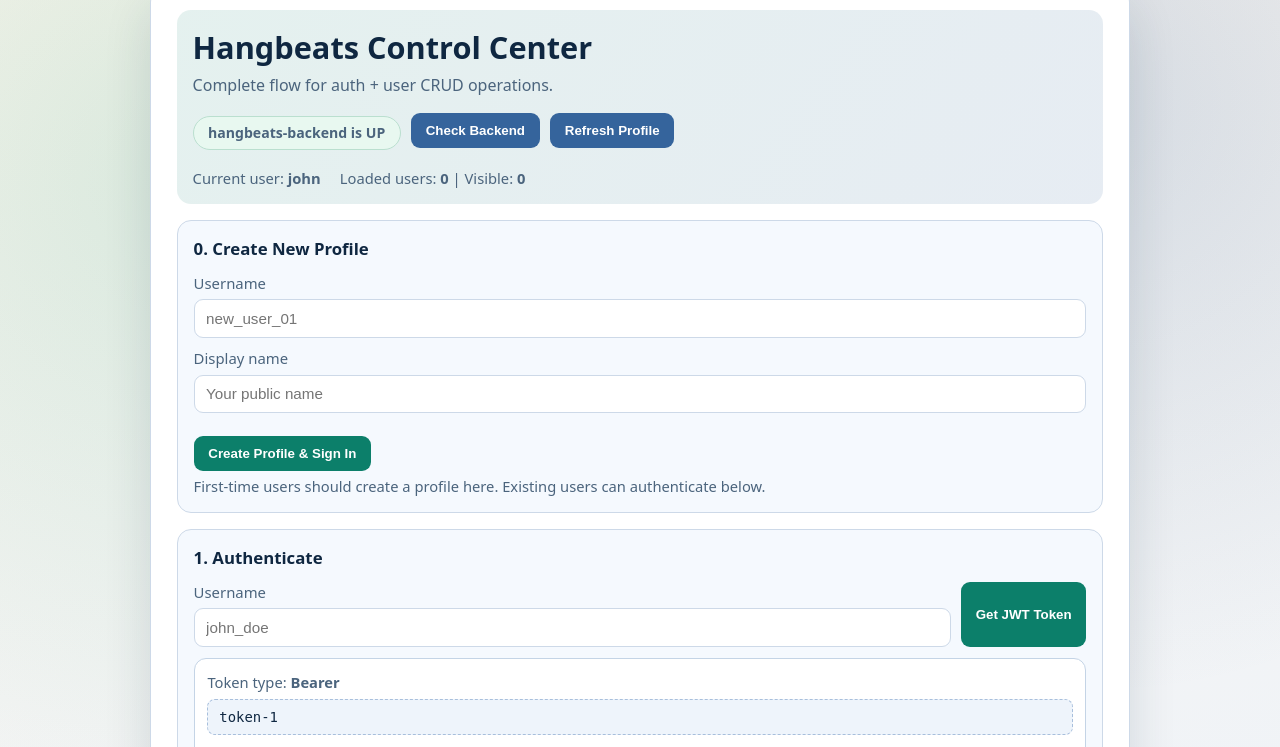
App › blocks user creation when display name is missing
The width and height of the screenshot is (1280, 747).
Type "john" into the field with placeholder "john_doe" below "1. Authenticate" at (572, 628), box top-left (194, 608), bottom-right (951, 647)
(page scrolled)
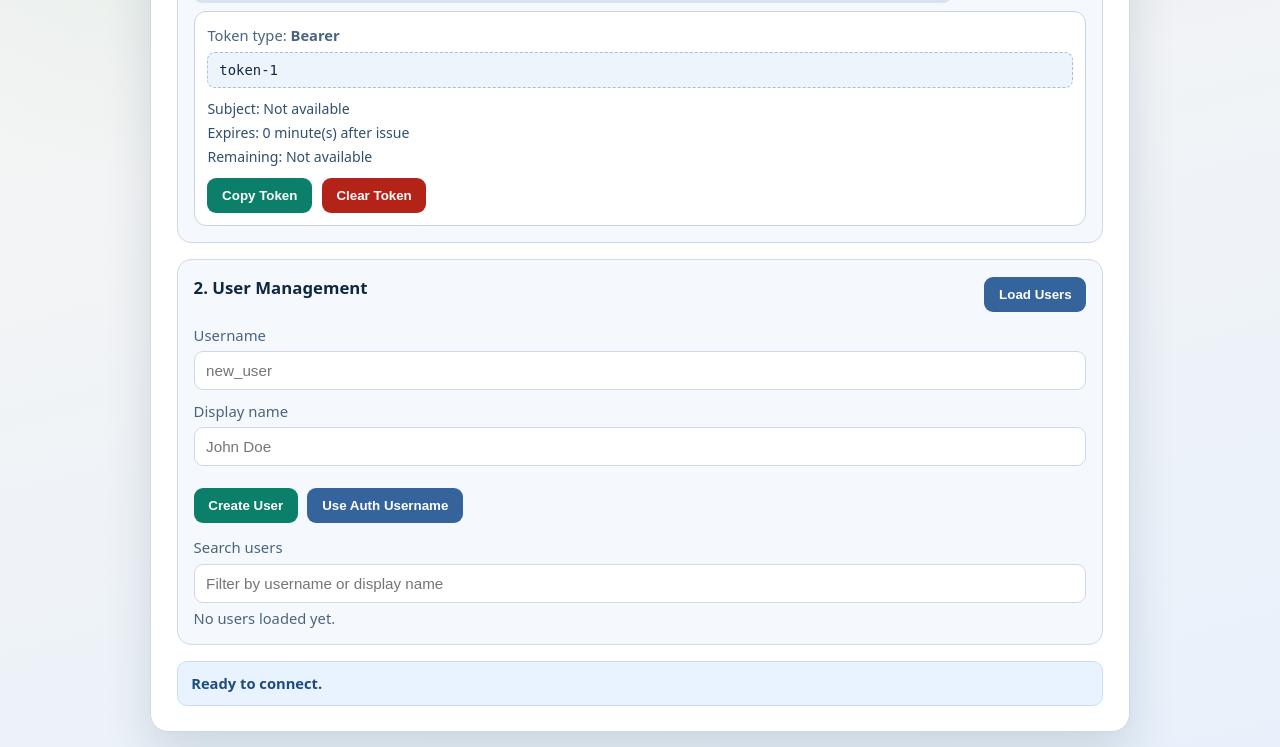
Click the button "Create User" at (246, 506), box top-left (194, 488), bottom-right (298, 523)
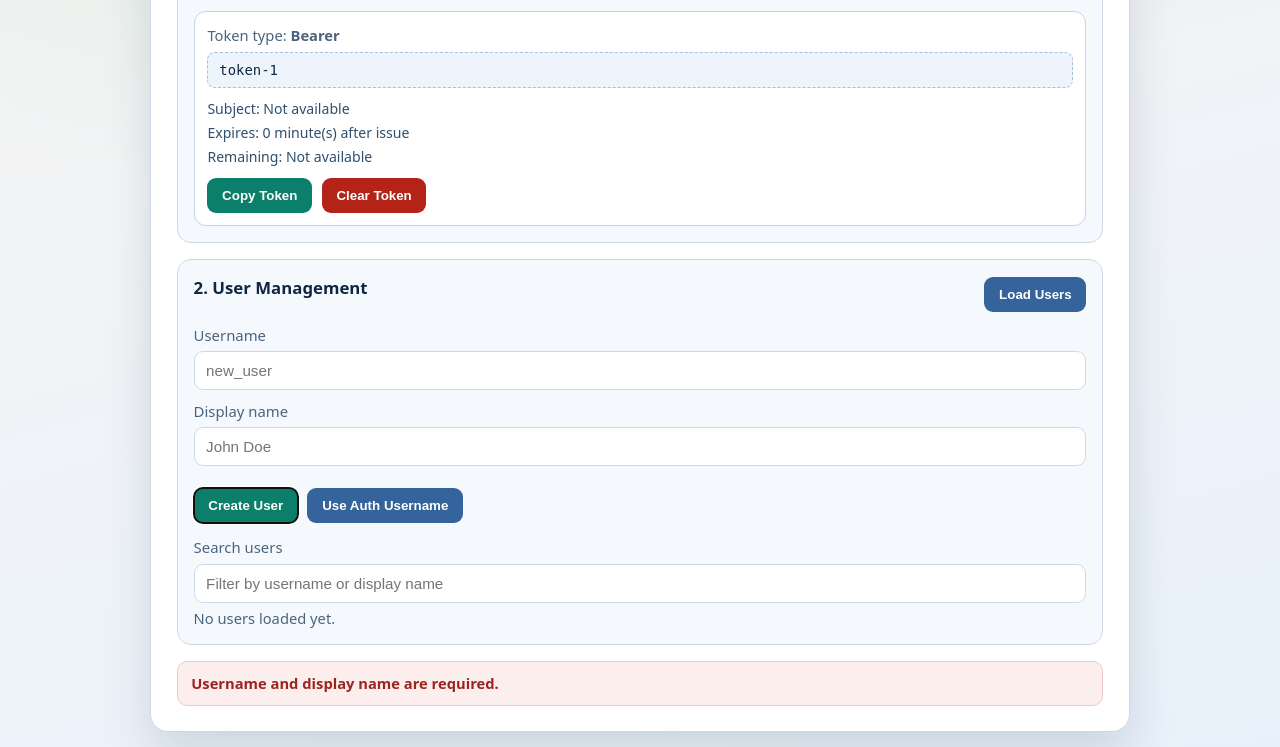
Expected: the text "Username and display name are required." is shown, top-left (177, 661), bottom-right (1103, 706)
